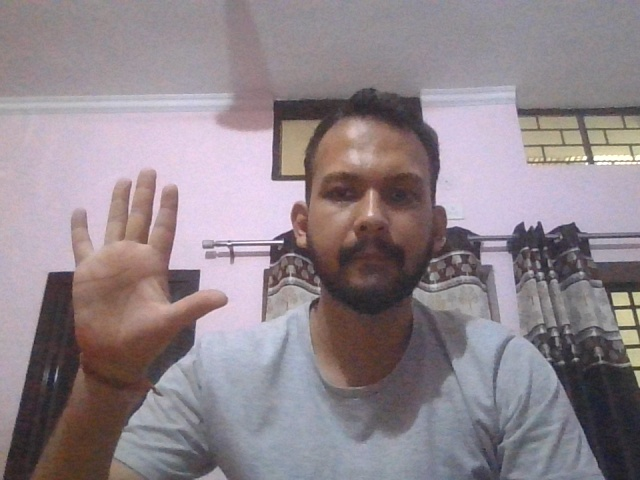hello: (71, 168, 228, 388)
